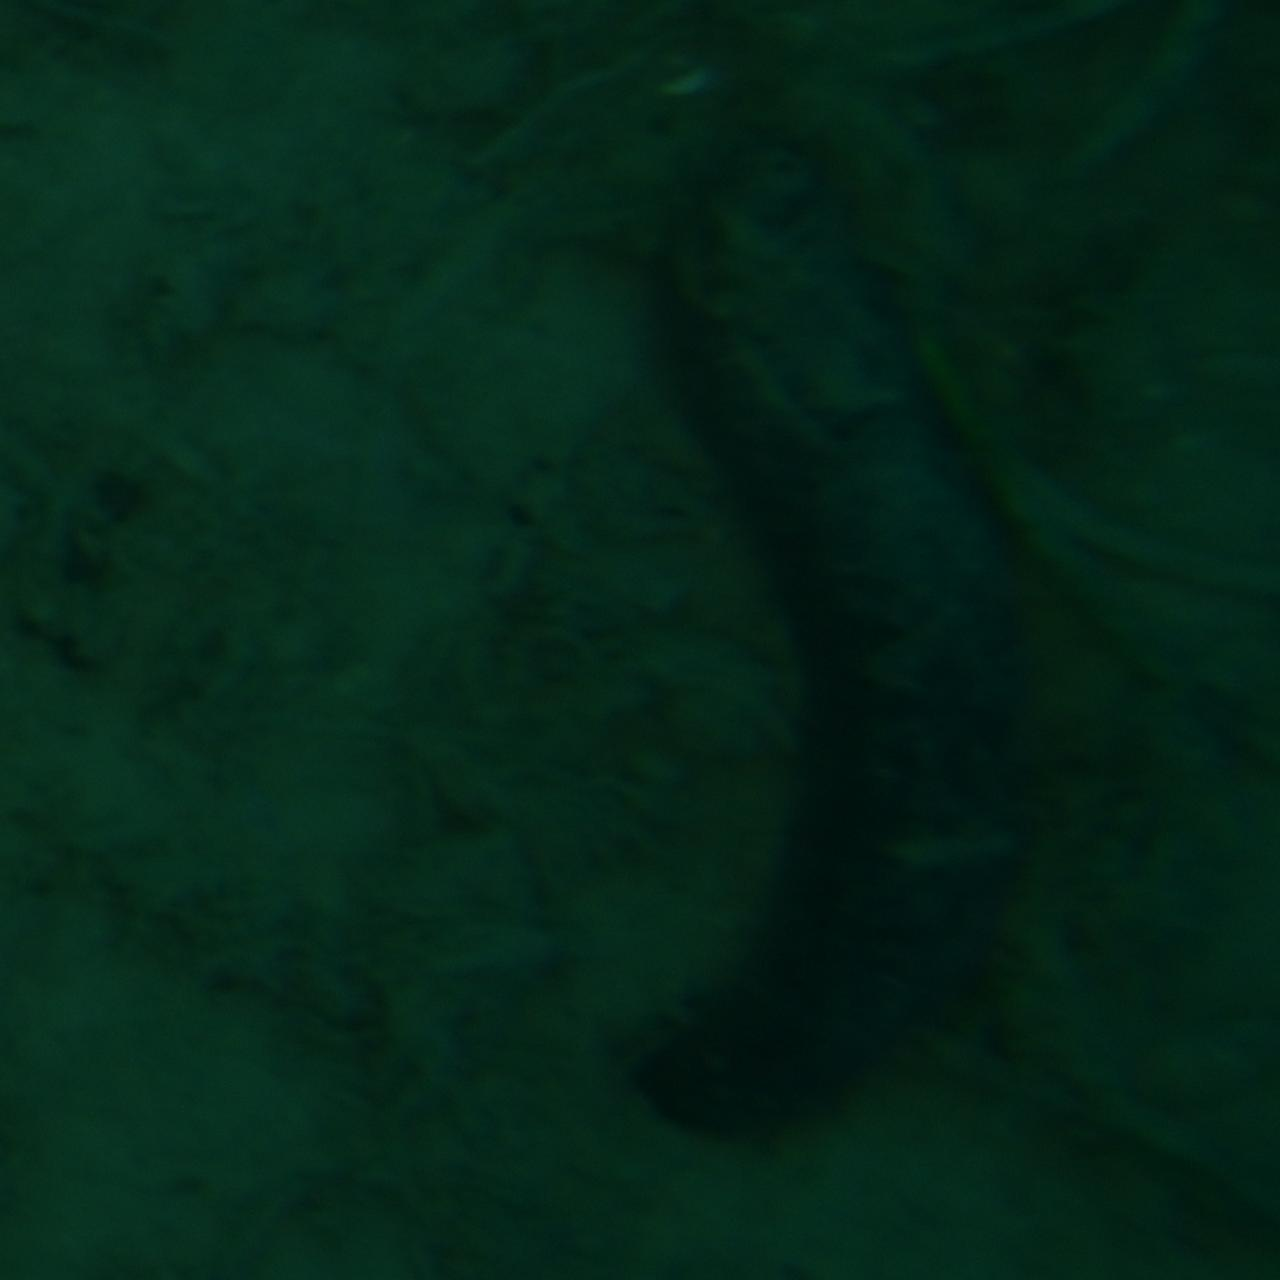Holothuria tubulosa: (610, 108, 1043, 1172)
